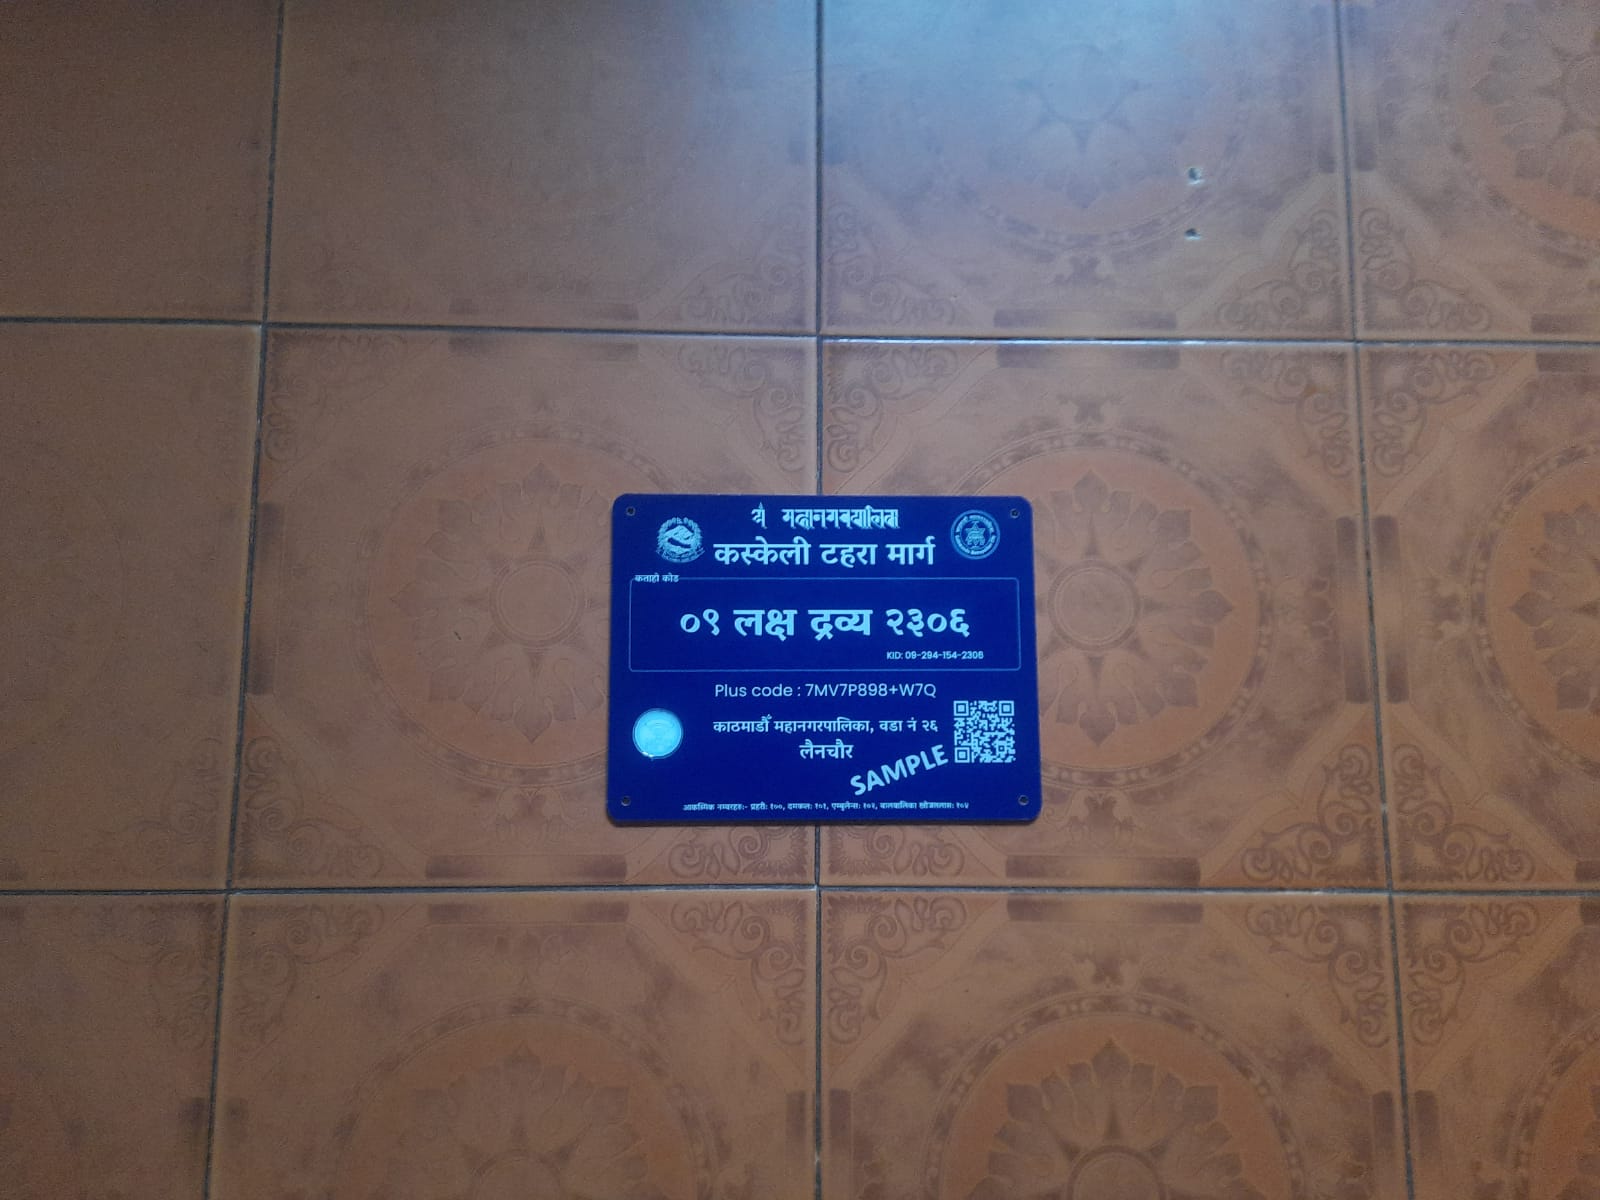Plate: (604, 485, 1046, 832)
